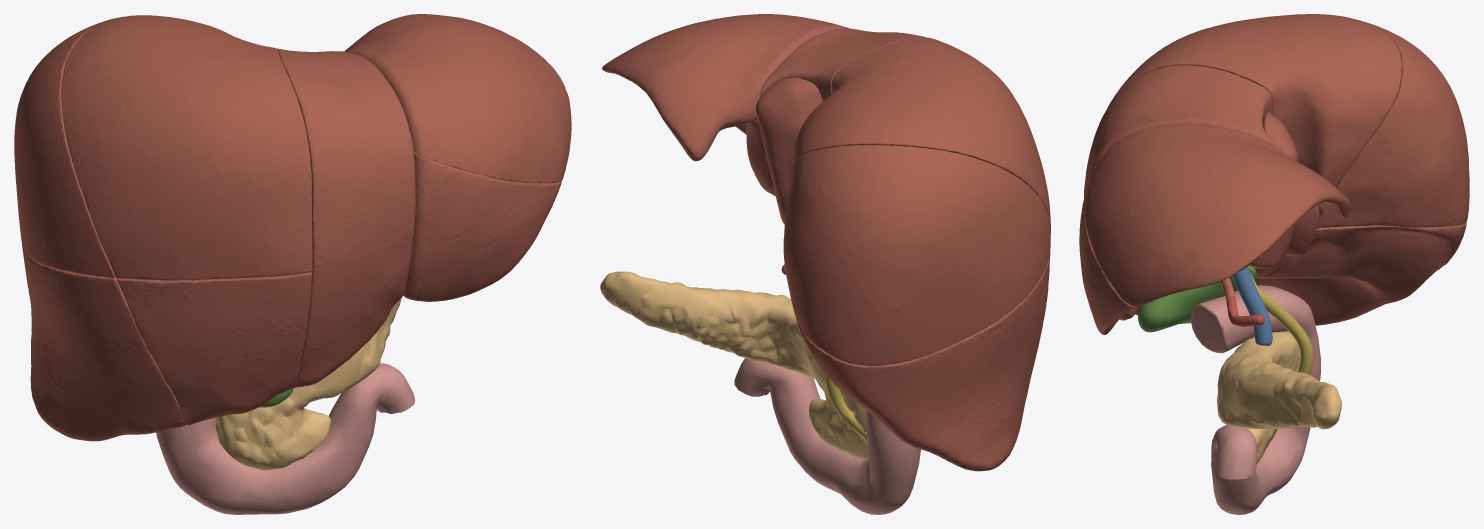
The model's file is gallbladder.glb.
The picture shows the model from 3 angles, left to right: view 1: azimuth 30°, elevation 25°; view 2: azimuth 150°, elevation 25°; view 3: azimuth 270°, elevation 25°; orthographic projection. The views are drawn at different scales.
Visible parts, largest first — view 1: liver, duodenum, pancreas; view 2: liver, pancreas, duodenum, common-hepatic-duct; view 3: liver, duodenum, pancreas, gallbladder, portal-vein, common-hepatic-duct, common-hepatic-artery.
Part boxes in pixels (x1,y1,x2,y2): liver: [14, 14, 571, 441]; duodenum: [156, 363, 414, 514]; pancreas: [215, 295, 403, 470]; liver: [602, 14, 1050, 471]; pancreas: [600, 271, 868, 459]; duodenum: [734, 358, 920, 514]; common-hepatic-duct: [825, 374, 866, 439]; liver: [1079, 14, 1469, 334]; duodenum: [1191, 285, 1320, 514]; pancreas: [1217, 331, 1341, 463]; gallbladder: [1138, 265, 1256, 332]; portal-vein: [1232, 266, 1272, 345]; common-hepatic-duct: [1231, 276, 1313, 374]; common-hepatic-artery: [1226, 295, 1264, 326].
Size of the model in its own units: 3.35 by 3.16 by 2.55.
